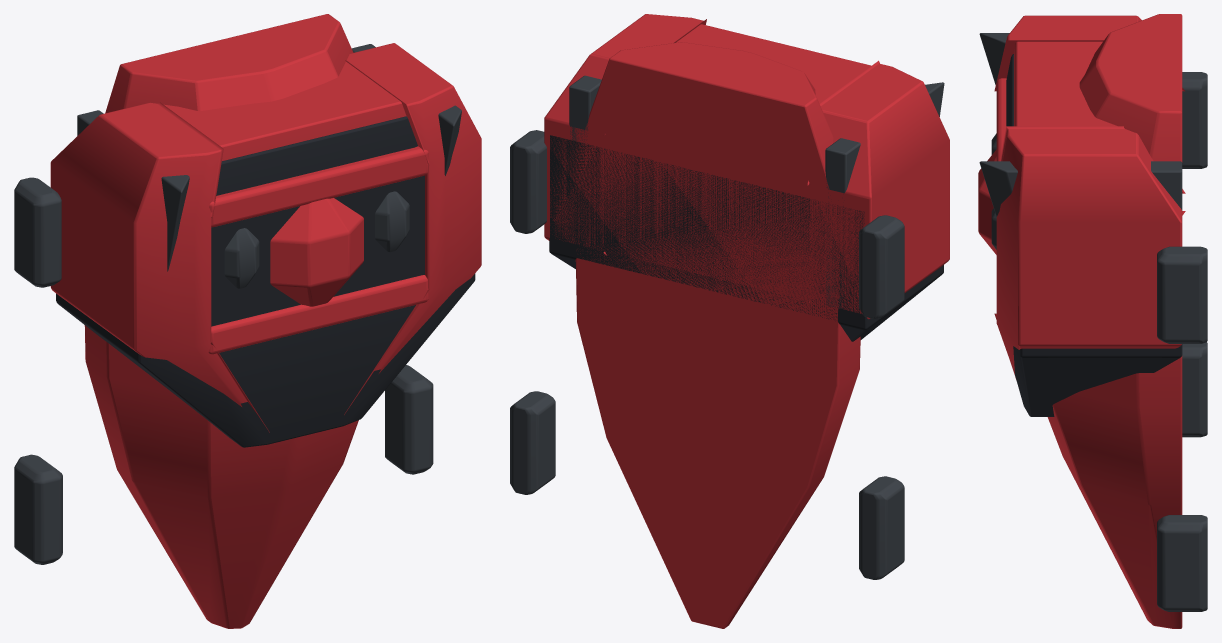
The model's file is ThighFront_Set09_Mantis.fbx.
3 views of the same model, side by side, from view 1: azimuth 30°, elevation 25°; view 2: azimuth 150°, elevation 25°; view 3: azimuth 270°, elevation 25° (orthographic). The views are drawn at different scales.
Parts seen in each view (by area): view 1: ThighFront_Set09_Mantis; view 2: ThighFront_Set09_Mantis; view 3: ThighFront_Set09_Mantis.
Part boxes in pixels (x1,y1,x2,y2): ThighFront_Set09_Mantis: (14, 14, 481, 628); ThighFront_Set09_Mantis: (510, 14, 949, 628); ThighFront_Set09_Mantis: (978, 14, 1207, 628).
Size of the model in its own units: 0.53 by 0.73 by 0.2716.
